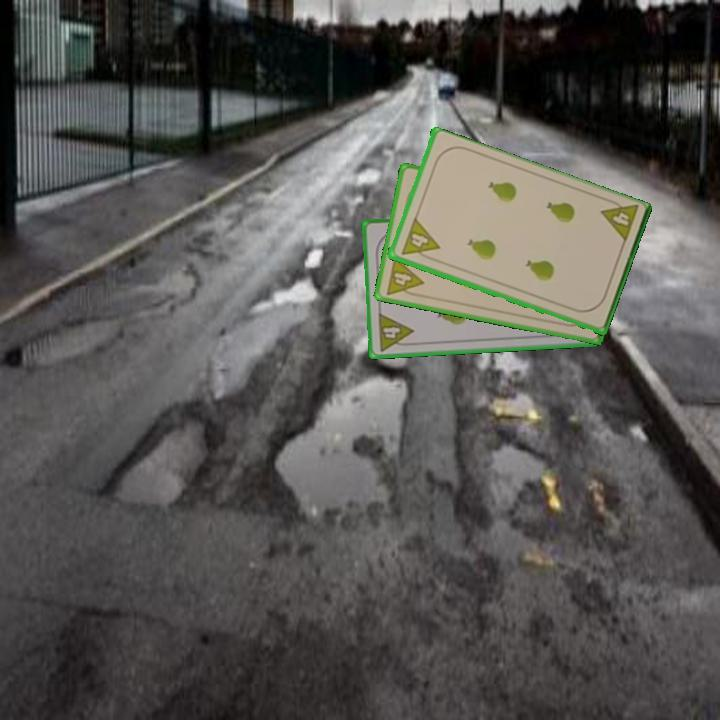4p: (597, 194, 641, 247), (397, 215, 442, 264), (382, 253, 426, 300), (374, 309, 417, 354)
